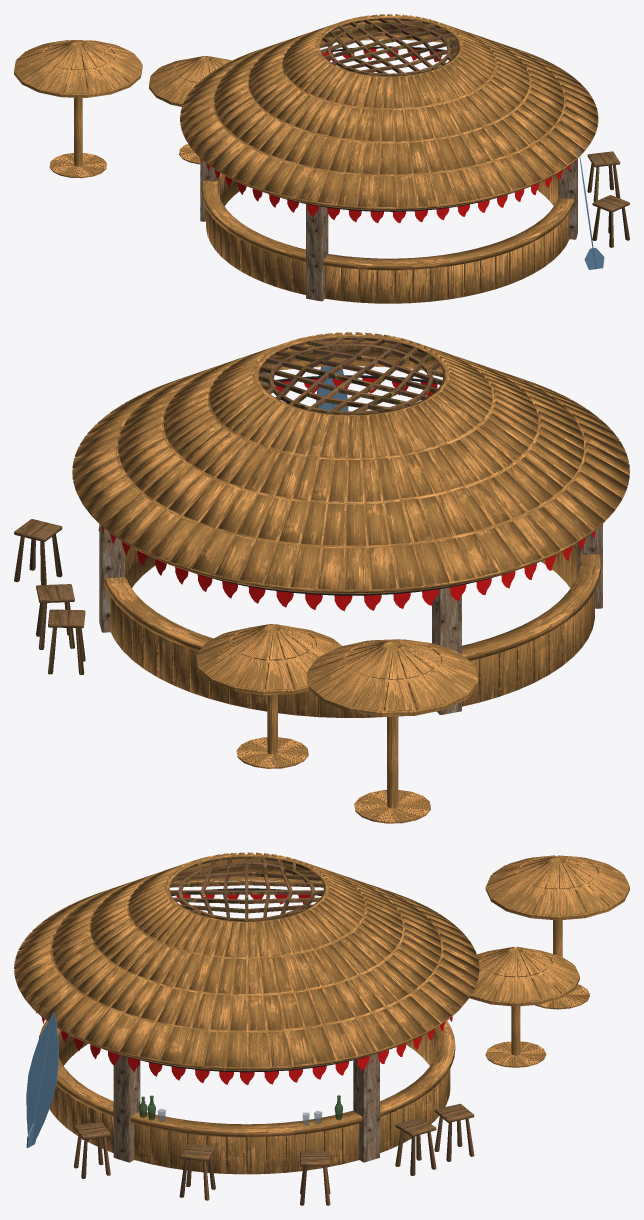
File: hut_lo.glb
The picture shows the model from 3 angles, top to bottom: view 1: azimuth 30°, elevation 25°; view 2: azimuth 150°, elevation 25°; view 3: azimuth 270°, elevation 25°; orthographic projection. The views are drawn at different scales.
Visible parts, largest first — view 1: HUT, Shade.001, Roof, Pillar, Shade, Flags, Stool.001, Stool.002, Surfboard, Rope; view 2: HUT, Shade.001, Shade, Roof, Pillar, Flags, Stool, Stool.004, Stool.003, Rope; view 3: HUT, Shade.001, Shade, Roof, Pillar, Surfboard, Flags, Stool.003, Stool.004, Stool.002, Stool.001, Stool (+1 smaller).
Boxes of the visible parts, x1=… form: HUT: x1=180, y1=14, x2=598, y2=303; Shade.001: x1=14, y1=40, x2=142, y2=178; Roof: x1=320, y1=18, x2=458, y2=75; Pillar: x1=200, y1=39, x2=577, y2=301; Shade: x1=149, y1=56, x2=231, y2=164; Flags: x1=201, y1=48, x2=576, y2=223; Stool.001: x1=587, y1=151, x2=620, y2=201; Stool.002: x1=592, y1=195, x2=629, y2=247; Surfboard: x1=578, y1=146, x2=604, y2=269; Rope: x1=270, y1=46, x2=506, y2=211; HUT: x1=72, y1=332, x2=629, y2=717; Shade.001: x1=307, y1=639, x2=478, y2=823; Shade: x1=196, y1=624, x2=341, y2=768; Roof: x1=259, y1=337, x2=443, y2=414; Pillar: x1=99, y1=366, x2=602, y2=714; Flags: x1=102, y1=378, x2=602, y2=611; Stool: x1=14, y1=519, x2=62, y2=584; Stool.004: x1=48, y1=609, x2=85, y2=674; Stool.003: x1=36, y1=584, x2=74, y2=649; Rope: x1=195, y1=375, x2=510, y2=595; HUT: x1=14, y1=852, x2=479, y2=1174; Shade.001: x1=485, y1=855, x2=629, y2=1009; Shade: x1=469, y1=946, x2=579, y2=1067; Roof: x1=170, y1=856, x2=323, y2=920; Pillar: x1=113, y1=1053, x2=379, y2=1162; Surfboard: x1=26, y1=1012, x2=58, y2=1147; Flags: x1=36, y1=894, x2=452, y2=1084; Stool.003: x1=395, y1=1117, x2=436, y2=1175; Stool.004: x1=434, y1=1103, x2=474, y2=1161; Stool.002: x1=74, y1=1122, x2=110, y2=1178; Stool.001: x1=179, y1=1144, x2=215, y2=1200; Stool: x1=300, y1=1151, x2=330, y2=1205.
Size of the model in its own units: 10.1 by 3.94 by 10.94.
8 materials, 3 textured.
